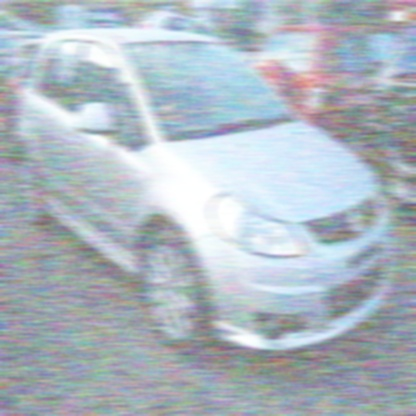Vehicle: (15, 23, 397, 370)
